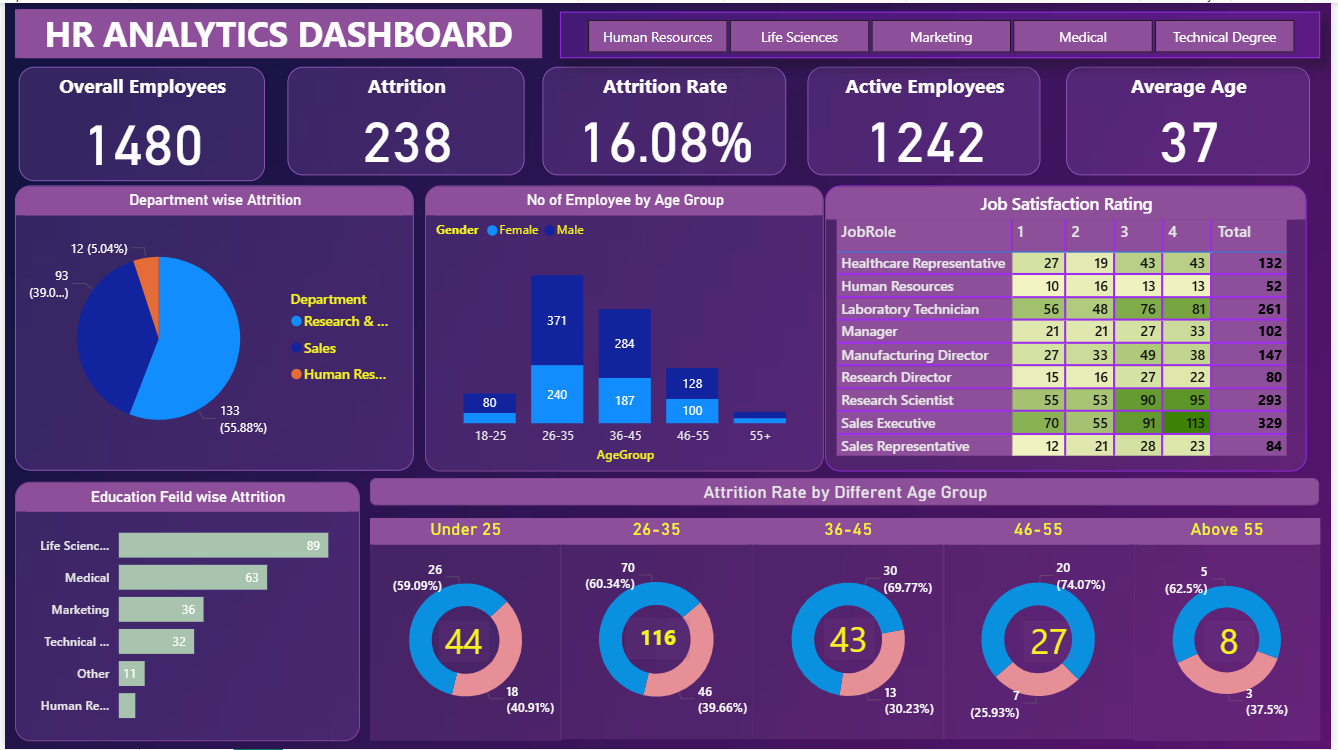

The page's visual inventory and layout, read from the dashboard file:
{"tool":"powerbi","page":{"name":"Page 1","canvas":[1280,720],"ordinal":0},"visuals":[{"type":"card","title":"Overall Employees","fields":{"Values":["Sum(HR_Analytics.EmployeeCount)"]},"box":[13.8,61.2,237.5,110],"z":0},{"type":"card","title":"Attrition","fields":{"Values":["Sum(HR_Analytics.Attrition Count)"]},"box":[272.5,61.2,228.8,105],"z":1000},{"type":"card","title":"Attrition Rate","fields":{"Values":["HR_Analytics.Attrition Rate"]},"box":[518.8,61.2,235,105],"z":2000},{"type":"card","title":"Active Employees","fields":{"Values":["HR_Analytics.Active Employees"]},"box":[775,61.2,225,105],"z":3000},{"type":"card","title":"Average Age","fields":{"Values":["Avg(HR_Analytics.Age)"]},"box":[1023.8,61.2,235,105],"z":4000},{"type":"pieChart","title":"Department wise Attrition","fields":{"Category":["HR_Analytics.Department"],"Y":["Sum(HR_Analytics.Attrition Count)"]},"box":[10,176.2,385,275],"z":5000},{"type":"columnChart","title":"No of Employee by Age Group","fields":{"Category":["HR_Analytics.AgeGroup"],"Y":["Sum(HR_Analytics.EmployeeCount)"],"Series":["HR_Analytics.Gender"]},"box":[405,176.2,385,276.2],"z":6000},{"type":"pivotTable","title":"Job Satisfaction Rating","fields":{"Rows":["HR_Analytics.JobRole"],"Columns":["HR_Analytics.JobSatisfaction"],"Values":["Sum(HR_Analytics.EmployeeCount)"]},"box":[791.2,176.2,465,276.2],"z":7000},{"type":"barChart","title":"Education Feild wise Attrition ","fields":{"Category":["HR_Analytics.EducationField"],"Y":["Sum(HR_Analytics.Attrition Count)"]},"box":[10,462.5,332.5,250],"z":8000},{"type":"donutChart","title":"Under 25","fields":{"Category":["HR_Analytics.Gender"],"Y":["Sum(HR_Analytics.Attrition Count)"],"Series":["HR_Analytics.AgeGroup"]},"box":[352.5,497.5,185,215],"z":9000},{"type":"textbox","title":"Attrition Rate by Different Age Group","box":[352.5,458.8,916.2,26.2],"z":10000},{"type":"donutChart","title":"26-35","fields":{"Category":["HR_Analytics.Gender"],"Y":["Sum(HR_Analytics.Attrition Count)"],"Series":["HR_Analytics.AgeGroup"]},"box":[536.2,497.5,186.2,213.8],"z":11000},{"type":"donutChart","title":"36-45","fields":{"Category":["HR_Analytics.Gender"],"Y":["Sum(HR_Analytics.Attrition Count)"],"Series":["HR_Analytics.AgeGroup"]},"box":[721.2,497.5,185,213.8],"z":12000},{"type":"donutChart","title":"46-55","fields":{"Category":["HR_Analytics.Gender"],"Y":["Sum(HR_Analytics.Attrition Count)"],"Series":["HR_Analytics.AgeGroup"]},"box":[905,497.5,185,213.8],"z":13000},{"type":"donutChart","title":"Above 55","fields":{"Category":["HR_Analytics.Gender"],"Y":["Sum(HR_Analytics.Attrition Count)"],"Series":["HR_Analytics.AgeGroup"]},"box":[1090,497.5,180,215],"z":14000},{"type":"card","fields":{"Values":["Sum(HR_Analytics.Attrition Count)"]},"box":[418.8,596.2,48.8,40],"z":15000},{"type":"card","fields":{"Values":["Sum(HR_Analytics.Attrition Count)"]},"box":[600,593.8,61.2,40],"z":16000},{"type":"card","fields":{"Values":["Sum(HR_Analytics.Attrition Count)"]},"box":[790,593.8,48.8,40],"z":17000},{"type":"card","fields":{"Values":["Sum(HR_Analytics.Attrition Count)"]},"box":[983.8,596.2,48.8,40],"z":18000},{"type":"card","fields":{"Values":["Sum(HR_Analytics.Attrition Count)"]},"box":[1157.5,596.2,48.8,40],"z":19000},{"type":"textbox","title":"HR ANALYTICS DASHBOARD","box":[10,6.2,508.8,47.5],"z":20000},{"type":"slicer","fields":{"Values":["HR_Analytics.EducationField"]},"box":[536.2,8.8,733.8,45],"z":21000}]}

Visuals, with their boxes in screenshot pixels (x1, y1, x2, y2), scaled from the page's 1280x720 canvas onto the 1338x750 screenshot:
"Overall Employees" card: <region>14, 64, 263, 178</region>
"Attrition" card: <region>285, 64, 524, 173</region>
"Attrition Rate" card: <region>542, 64, 788, 173</region>
"Active Employees" card: <region>810, 64, 1045, 173</region>
"Average Age" card: <region>1070, 64, 1316, 173</region>
"Department wise Attrition" pieChart: <region>10, 184, 413, 470</region>
"No of Employee by Age Group" columnChart: <region>423, 184, 826, 471</region>
"Job Satisfaction Rating" pivotTable: <region>827, 184, 1313, 471</region>
"Education Feild wise Attrition " barChart: <region>10, 482, 358, 742</region>
"Under 25" donutChart: <region>368, 518, 562, 742</region>
"Attrition Rate by Different Age Group" textbox: <region>368, 478, 1326, 505</region>
"26-35" donutChart: <region>560, 518, 755, 741</region>
"36-45" donutChart: <region>754, 518, 947, 741</region>
"46-55" donutChart: <region>946, 518, 1139, 741</region>
"Above 55" donutChart: <region>1139, 518, 1328, 742</region>
card - Sum(HR_Analytics.Attrition Count): <region>438, 621, 489, 663</region>
card - Sum(HR_Analytics.Attrition Count): <region>627, 619, 691, 660</region>
card - Sum(HR_Analytics.Attrition Count): <region>826, 619, 877, 660</region>
card - Sum(HR_Analytics.Attrition Count): <region>1028, 621, 1079, 663</region>
card - Sum(HR_Analytics.Attrition Count): <region>1210, 621, 1261, 663</region>
"HR ANALYTICS DASHBOARD" textbox: <region>10, 6, 542, 56</region>
slicer - HR_Analytics.EducationField: <region>560, 9, 1328, 56</region>
